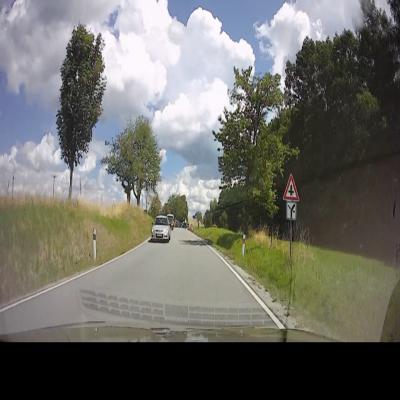clear-road: (0, 229, 259, 334)
